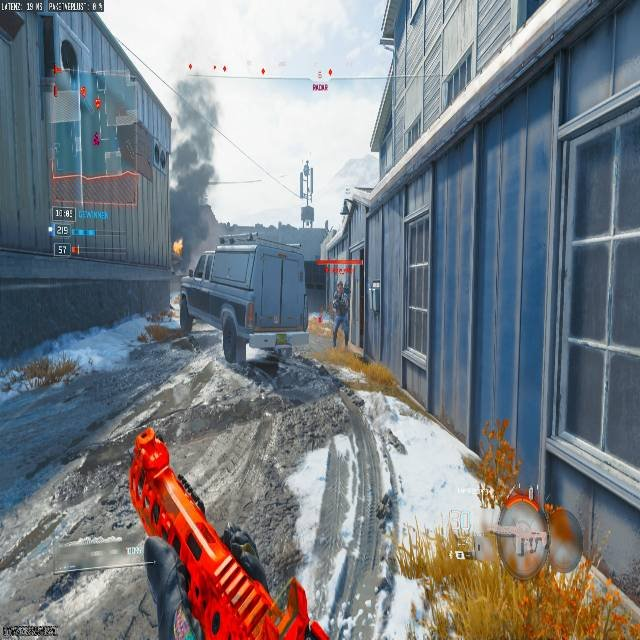player: (322, 298, 346, 348), (335, 279, 345, 304)
